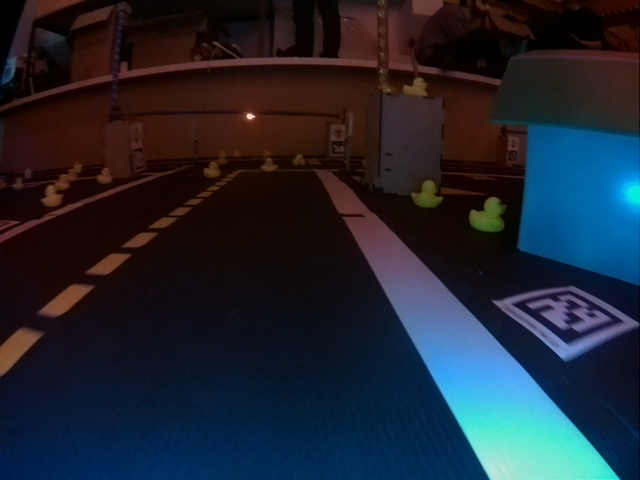Duckie: (471, 197, 507, 232), (412, 181, 442, 207), (403, 77, 429, 96), (42, 186, 61, 206), (96, 168, 112, 183), (261, 158, 276, 171), (205, 162, 219, 174), (293, 154, 305, 163)
Intersection sign: (331, 126, 344, 139)
QR code: (493, 286, 636, 360), (332, 142, 343, 155)
Signal sign: (133, 126, 143, 147)
Traffic light: (245, 110, 255, 122)
